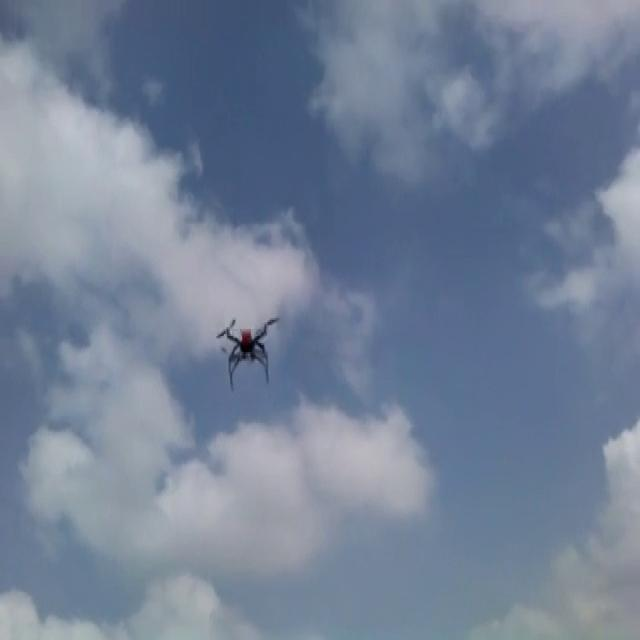drone: (213, 311, 278, 389)
